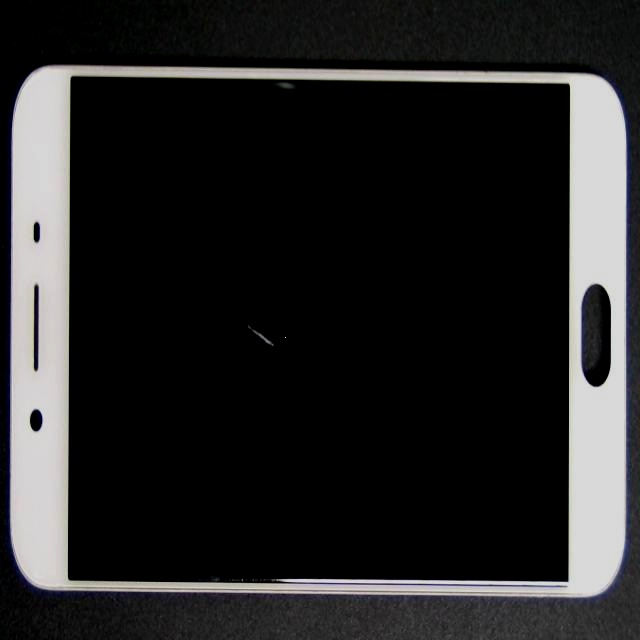scratch: (88, 167, 362, 552)
